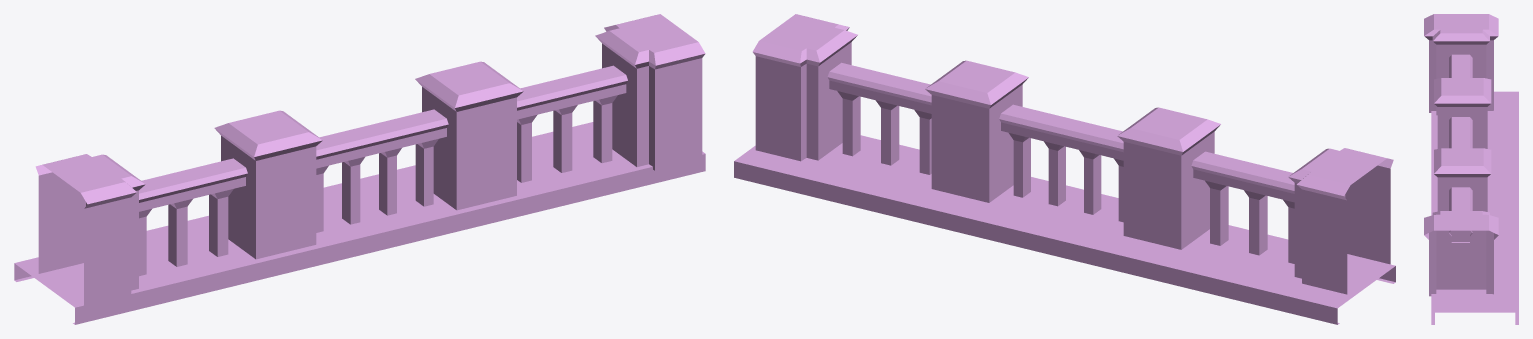
File: Museum_renfort_03.fbx
3 renders of one model, left to right at view 1: azimuth 30°, elevation 25°; view 2: azimuth 150°, elevation 25°; view 3: azimuth 270°, elevation 25°, orthographic. The views are drawn at different scales.
Visible parts, largest first — view 1: Archi_Renforts.003; view 2: Archi_Renforts.003; view 3: Archi_Renforts.003.
Part boxes in pixels (x1=…): Archi_Renforts.003: x1=14, y1=14, x2=705, y2=324; Archi_Renforts.003: x1=734, y1=14, x2=1395, y2=324; Archi_Renforts.003: x1=1424, y1=14, x2=1518, y2=324.
Bounding box in the file's own units: 528 × 103 × 95.73.
